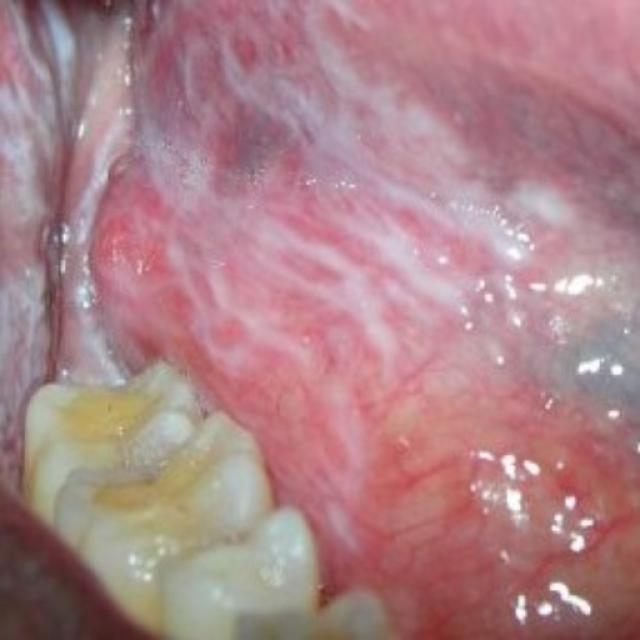leukoplakia-like-detection: (1, 1, 637, 537)
processing_area: (0, 5, 639, 639)
